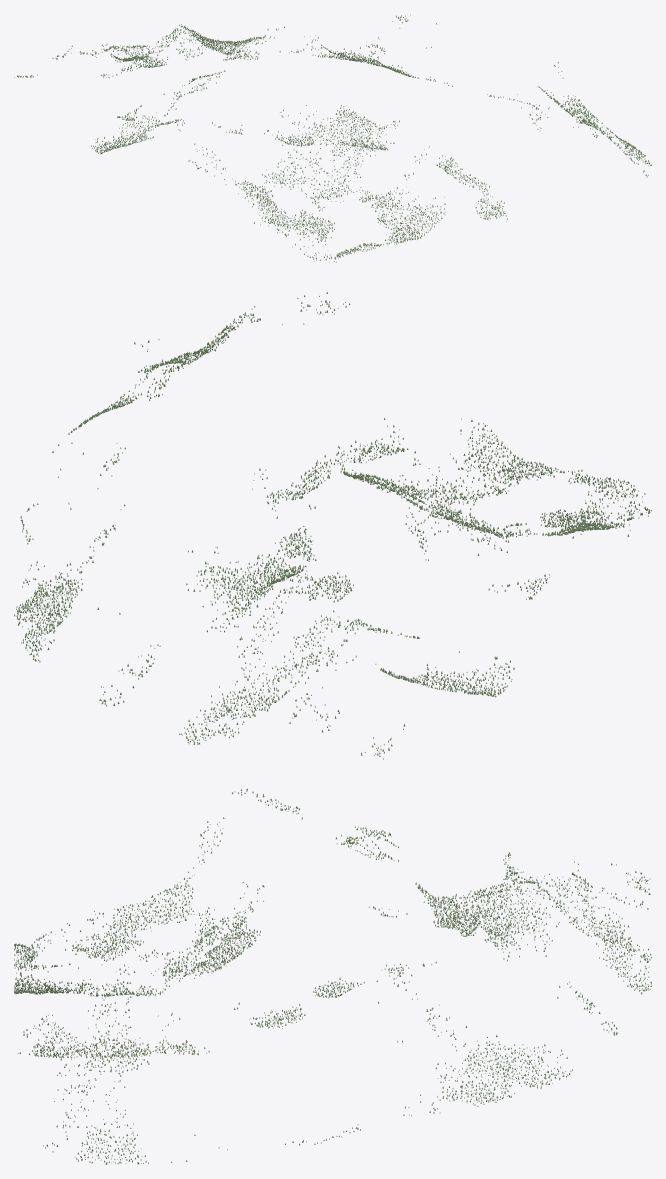
3 views of the same model, one above another, from view 1: azimuth 30°, elevation 25°; view 2: azimuth 150°, elevation 25°; view 3: azimuth 270°, elevation 25° (orthographic). The views are drawn at different scales.
Parts seen in each view (by area): view 1: Forest 1.0, Forest 1.1; view 2: Forest 1.0, Forest 1.1; view 3: Forest 1.0, Forest 1.1.
Part boxes in pixels (x1,y1,x2,y2): Forest 1.0: [14, 14, 643, 230]; Forest 1.1: [277, 90, 651, 262]; Forest 1.0: [14, 321, 637, 759]; Forest 1.1: [92, 291, 651, 522]; Forest 1.0: [105, 788, 651, 1164]; Forest 1.1: [14, 911, 108, 1164].
Bounding box in the file's own units: 4786 × 1065 × 5005.
